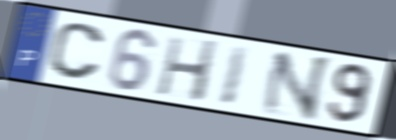6: (105, 27, 159, 93)
9: (326, 61, 375, 126)
C: (46, 20, 107, 82)
H: (153, 34, 221, 105)
I: (217, 43, 252, 108)
N: (257, 51, 335, 123)
